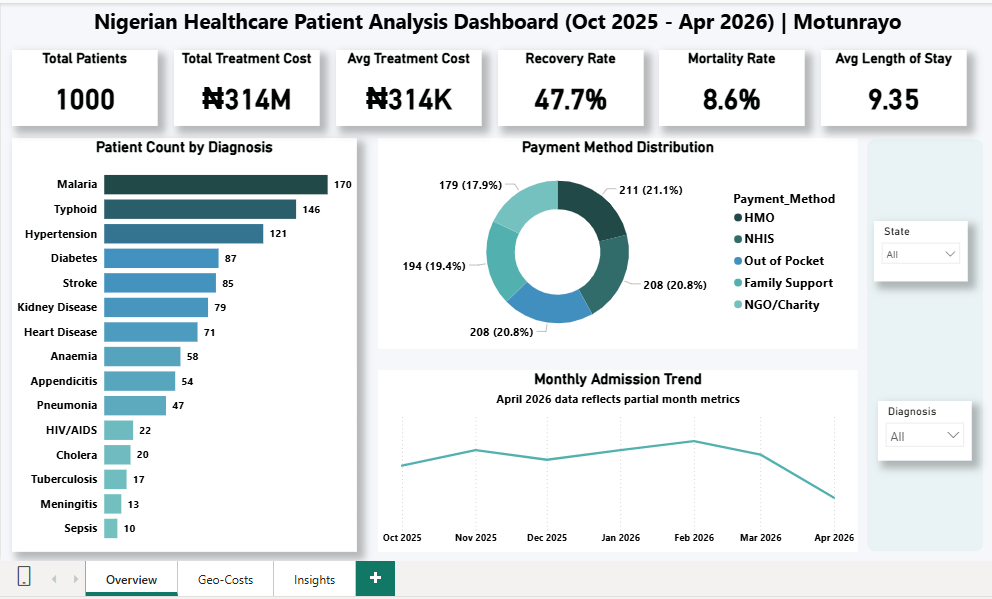

The page's visual inventory and layout, read from the dashboard file:
{"tool":"powerbi","page":{"name":"Overview","canvas":[1280,720],"ordinal":0},"visuals":[{"type":"clusteredBarChart","fields":{"Category":["nigerian_healthcare.Diagnosis"],"Y":["nigerian_healthcare.Patient Count"]},"box":[14.2,174.3,445,534.3],"z":0},{"type":"shape","box":[1117.3,175.5,149.8,532.3],"z":0,"group":"g1"},{"type":"donutChart","title":"Payment Method Distribution","fields":{"Category":["nigerian_healthcare.Payment_Method"],"Y":["nigerian_healthcare.Patient Count"]},"box":[486.1,174.3,619.4,272.1],"z":1000},{"type":"slicer","fields":{"Values":["nigerian_healthcare.State"]},"box":[1125.9,281.1,121.3,78.5],"z":2000,"group":"g1"},{"type":"lineChart","title":"Monthly Admission Trend","fields":{"Y":["nigerian_healthcare.Patient Count"],"Category":["nigerian_healthcare.Admission_Date.Variation.Date Hierarchy.Year","nigerian_healthcare.Admission_Date.Variation.Date Hierarchy.Month"]},"box":[486.1,473.4,619.4,235.3],"z":2000},{"type":"textbox","box":[14.2,0,1252.9,60.9],"z":3000},{"type":"card","title":"Total Treatment Cost","fields":{"Values":["nigerian_healthcare.Total Treatment Cost"]},"box":[223.1,60.8,187.7,98.3],"z":4000},{"type":"card","title":"Total Patients","fields":{"Values":["nigerian_healthcare.Total Patients"]},"box":[14.3,60.8,187.7,98.3],"z":5000},{"type":"card","title":"Recovery Rate","fields":{"Values":["nigerian_healthcare.Recovery Rate"]},"box":[640.7,60.8,187.7,98.3],"z":6000},{"type":"card","title":"Mortality Rate","fields":{"Values":["nigerian_healthcare.Mortality Rate"]},"box":[849.5,60.8,187.7,98.3],"z":7000},{"type":"card","title":"Avg Length of Stay","fields":{"Values":["nigerian_healthcare.Average Length of Stay"]},"box":[1058.3,60.8,187.7,98.3],"z":8000},{"type":"slicer","fields":{"Values":["nigerian_healthcare.Diagnosis"]},"box":[1131.6,513.5,121.3,77.4],"z":8000,"group":"g1"},{"type":"card","title":"Avg Treatment Cost","fields":{"Values":["nigerian_healthcare.Average Treatment Cost"]},"box":[431.9,60.8,187.7,98.3],"z":9000},{"type":"group","id":"g1","title":"Group 1","box":[1117.3,175.5,149.8,532.3],"z":9001}]}

Visuals, with their boxes on the page's 1280x720 design canvas (x1, y1, x2, y2). These are canvas units, not pixel positions in the 992x599 screenshot, which may show the page scaled, cropped or inside an application window:
clusteredBarChart - nigerian_healthcare.Diagnosis x nigerian_healthcare.Patient Count: 14/174/459/709
shape: 1117/176/1267/708
"Payment Method Distribution" donutChart: 486/174/1106/446
slicer - nigerian_healthcare.State: 1126/281/1247/360
"Monthly Admission Trend" lineChart: 486/473/1106/709
textbox: 14/0/1267/61
"Total Treatment Cost" card: 223/61/411/159
"Total Patients" card: 14/61/202/159
"Recovery Rate" card: 641/61/828/159
"Mortality Rate" card: 850/61/1037/159
"Avg Length of Stay" card: 1058/61/1246/159
slicer - nigerian_healthcare.Diagnosis: 1132/514/1253/591
"Avg Treatment Cost" card: 432/61/620/159
"Group 1" group: 1117/176/1267/708
